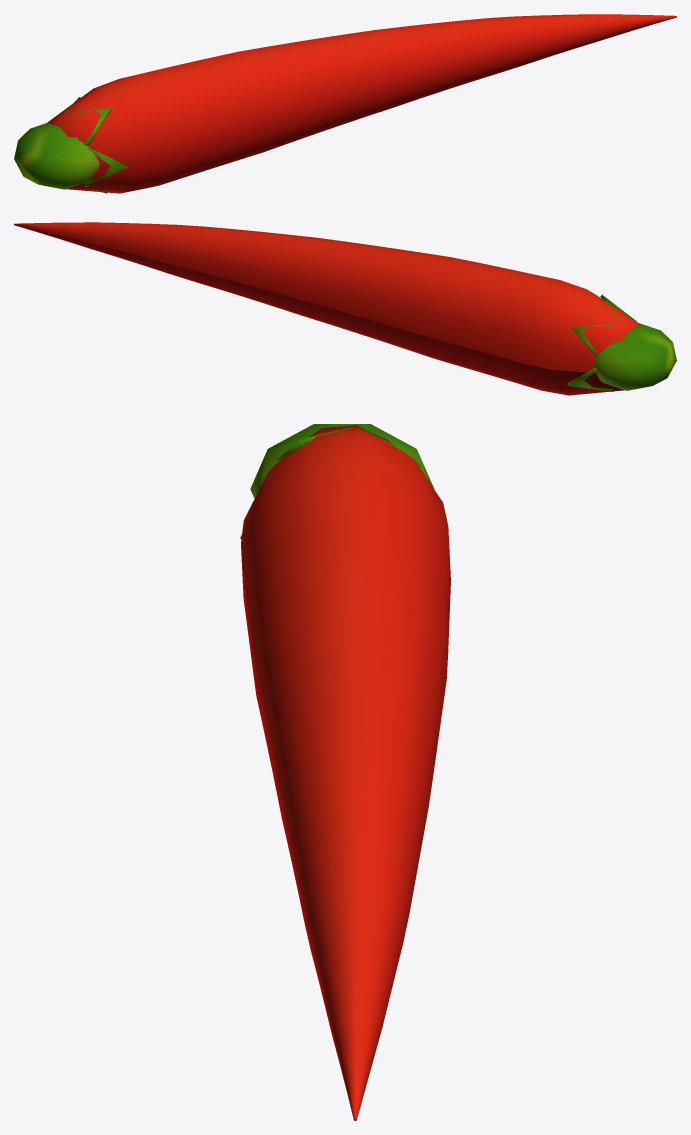
Rendered from NP_ChiliPepper_Harvest.fbx.
The picture shows the model from 3 angles, top to bottom: view 1: azimuth 30°, elevation 25°; view 2: azimuth 150°, elevation 25°; view 3: azimuth 270°, elevation 25°; orthographic projection. The views are drawn at different scales.
Parts seen in each view (by area): view 1: NP_ChiliPepper_Harvest; view 2: NP_ChiliPepper_Harvest; view 3: NP_ChiliPepper_Harvest.
Boxes of the visible parts, left/top/right/bottom form: NP_ChiliPepper_Harvest: left=14, top=14, right=676, bottom=193; NP_ChiliPepper_Harvest: left=14, top=222, right=676, bottom=395; NP_ChiliPepper_Harvest: left=240, top=424, right=450, bottom=1120.
Bounding box in the file's own units: 38.27 × 5.8 × 5.36.
